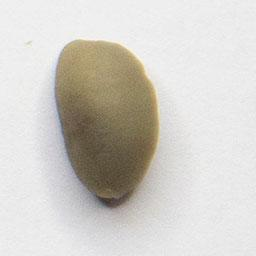peaberry: (52, 33, 163, 204)
